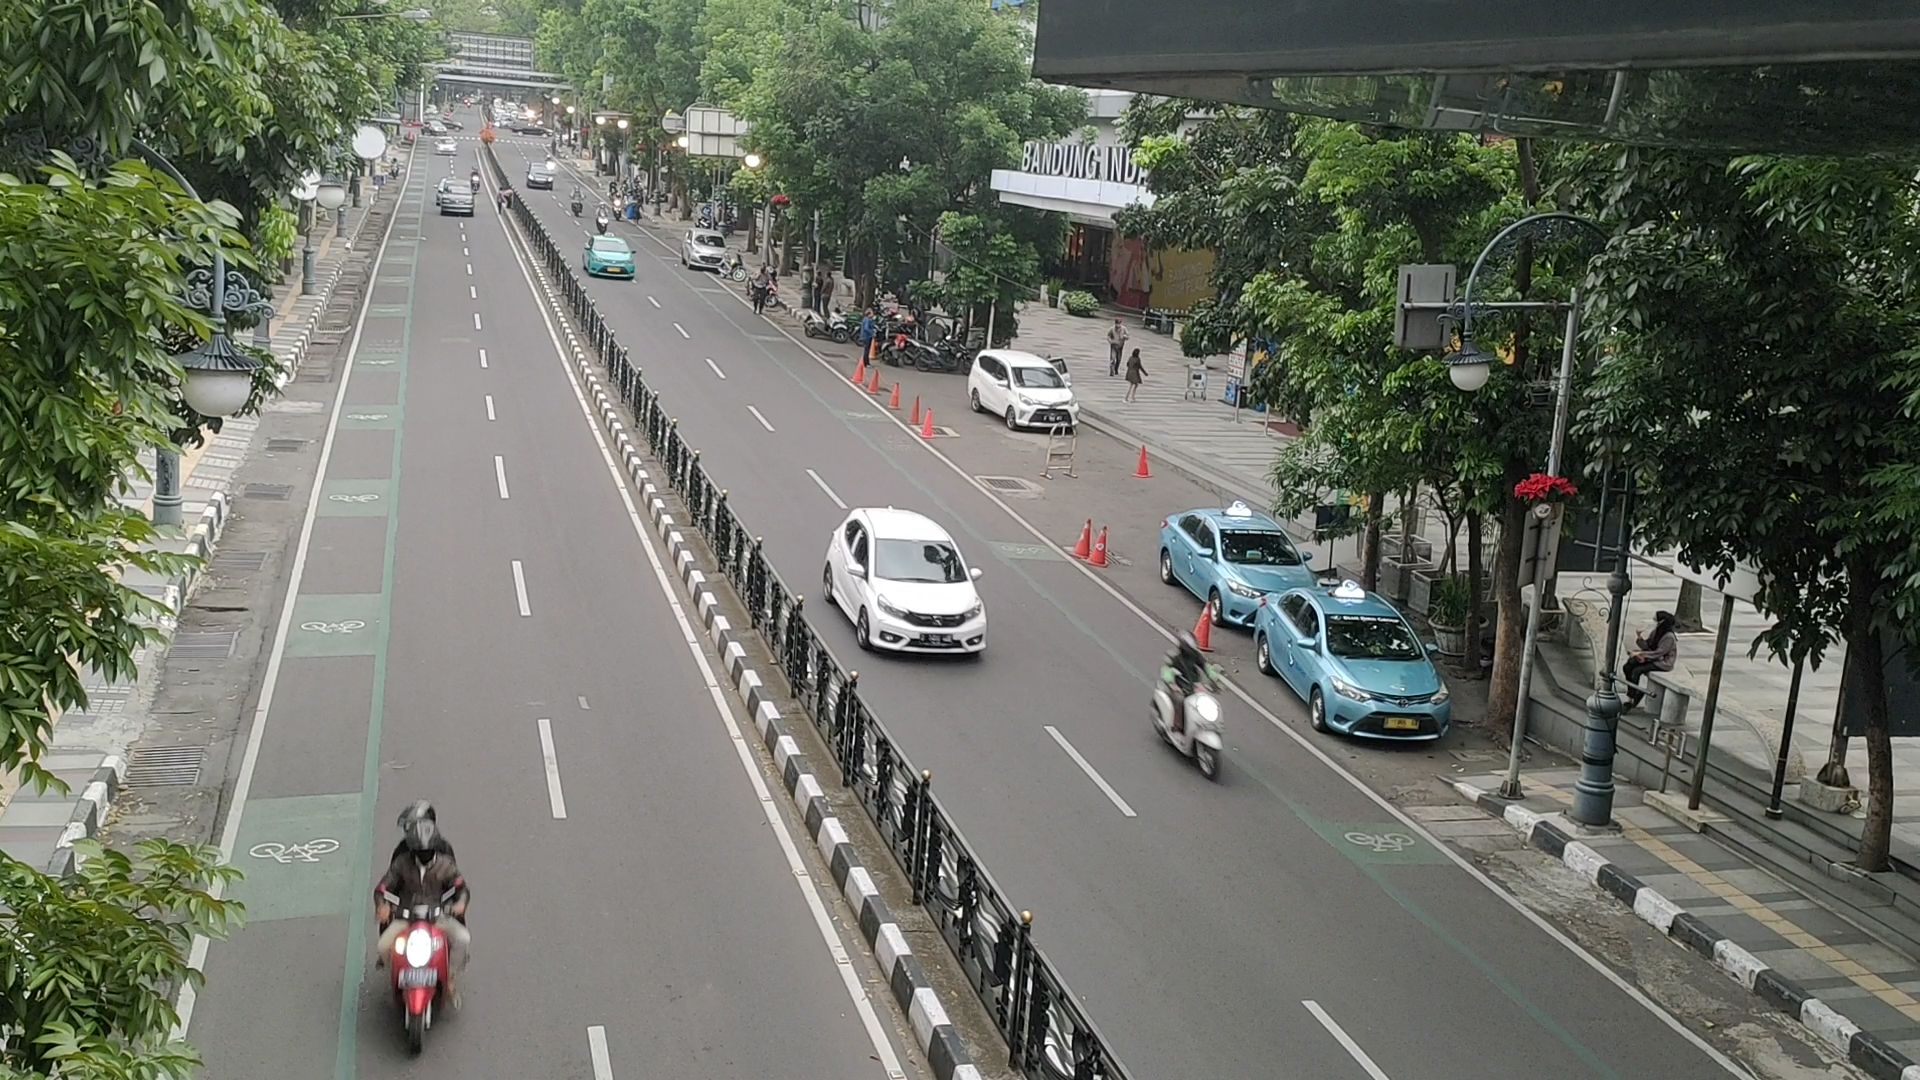mobil: (1307, 609, 1457, 746), (860, 531, 992, 667), (1001, 363, 1077, 438)
motor: (371, 795, 473, 1051), (1146, 633, 1230, 793)
